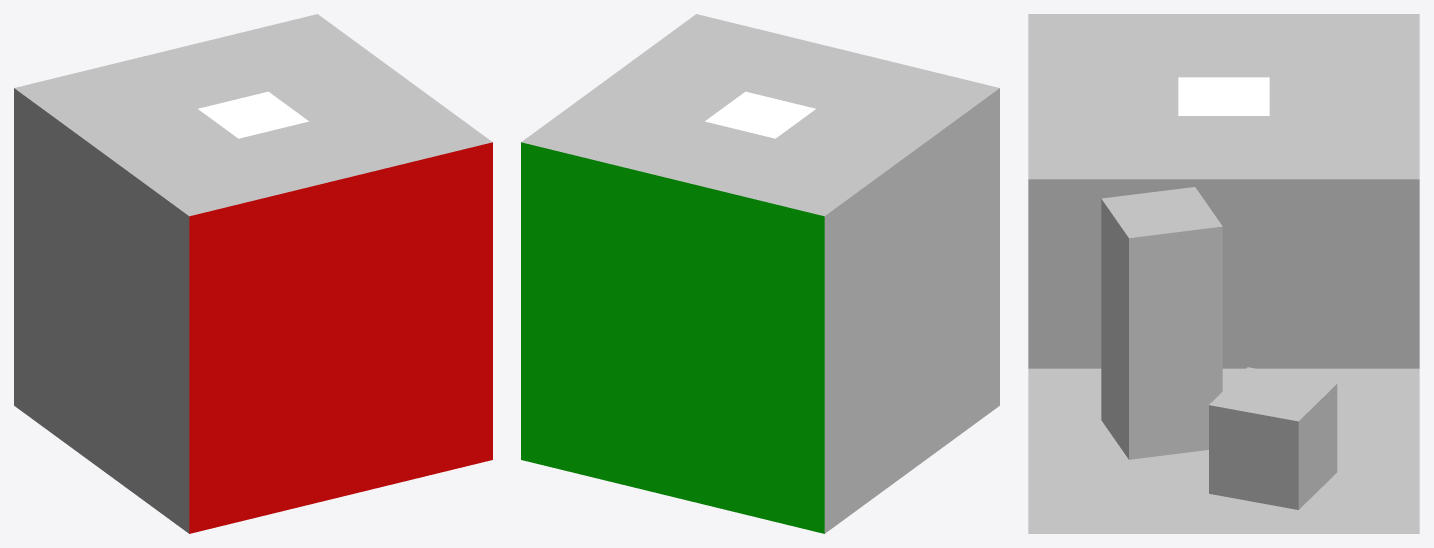
File: my_cornell_2.glb
3 renders of one model, left to right at view 1: azimuth 30°, elevation 25°; view 2: azimuth 150°, elevation 25°; view 3: azimuth 270°, elevation 25°, orthographic. The views are drawn at different scales.
Visible parts, largest first — view 1: LeftWall, BackWall, Ceiling, Light; view 2: RightWall, BackWall, Ceiling, Light; view 3: Ceiling, BackWall, Floor, Prism, Cube, Light.
Part boxes in pixels (left/top/right/bottom): LeftWall: left=189, top=142, right=492, bottom=533; BackWall: left=14, top=88, right=189, bottom=533; Ceiling: left=14, top=14, right=492, bottom=216; Light: left=198, top=91, right=308, bottom=138; RightWall: left=521, top=142, right=824, bottom=533; BackWall: left=824, top=88, right=999, bottom=533; Ceiling: left=521, top=14, right=999, bottom=216; Light: left=705, top=91, right=815, bottom=138; Ceiling: left=1028, top=14, right=1419, bottom=179; BackWall: left=1028, top=179, right=1419, bottom=368; Floor: left=1028, top=368, right=1419, bottom=533; Prism: left=1101, top=187, right=1222, bottom=459; Cube: left=1209, top=367, right=1337, bottom=509; Light: left=1178, top=77, right=1269, bottom=115.
Bounding box in the file's own units: 8 × 8 × 8.
